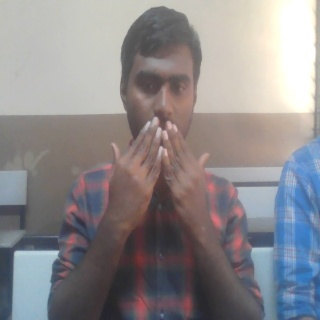Thank You: (107, 117, 215, 239)
